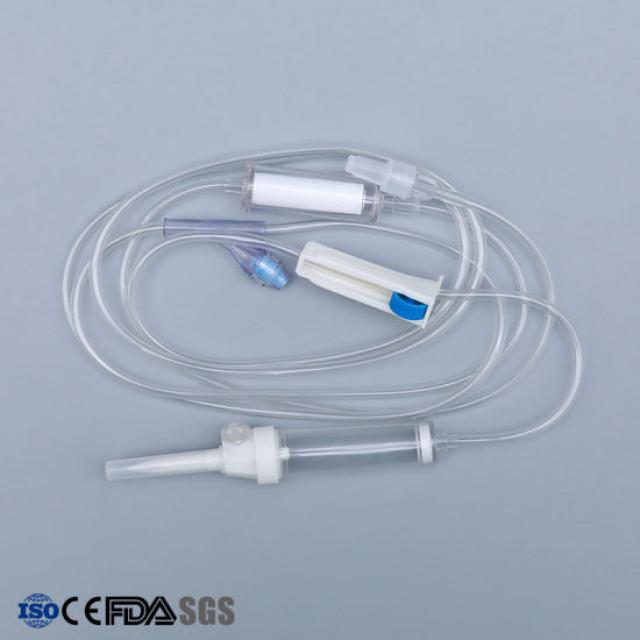B3: (46, 142, 591, 498)
